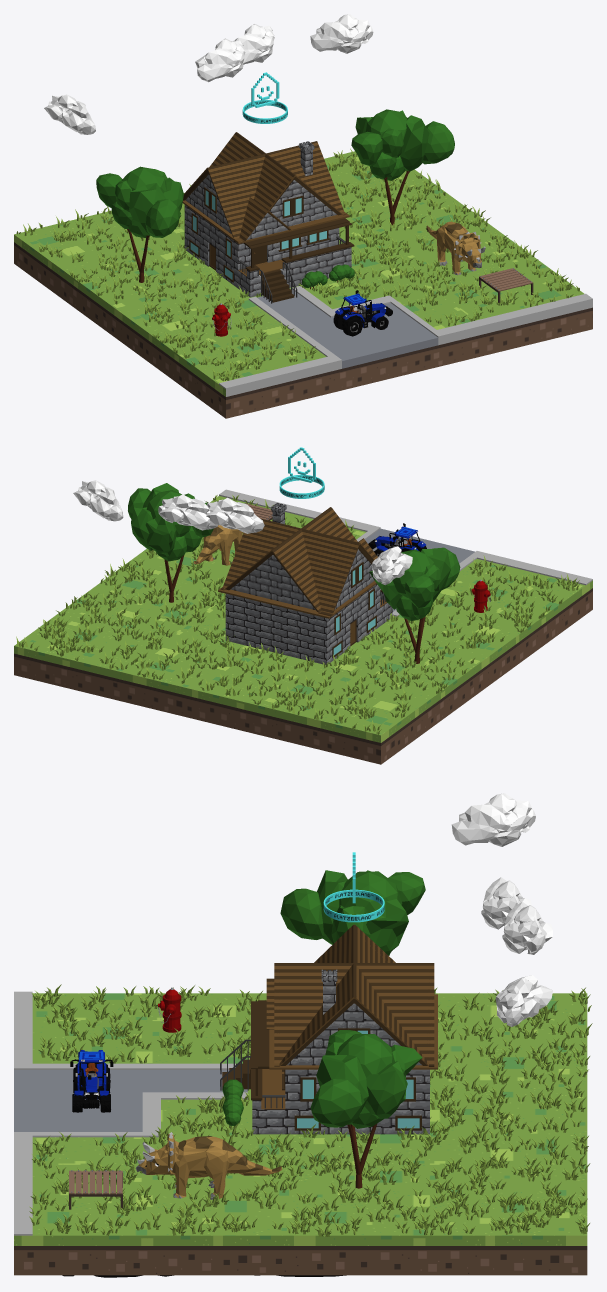
3 views of the same model, one above another, from view 1: azimuth 30°, elevation 25°; view 2: azimuth 150°, elevation 25°; view 3: azimuth 270°, elevation 25° (orthographic). The views are drawn at different scales.
Visible parts, largest first — view 1: Cube.006, Cube.586, Circle.012_Grass_0.192, Cube.007, tree, tree.001, ANIMAL_Triceratops, VEHICLES_TRACTOR, TYPE_PREMIUM, Cube.009; view 2: Cube.006, Cube.586, Circle.012_Grass_0.192, Cube.007, tree.001, tree, ANIMAL_Triceratops, VEHICLES_TRACTOR, TYPE_PREMIUM, OBJRANDOM_FIRE_HYDRANT; view 3: Cube.006, Circle.012_Grass_0.192, Cube.586, tree, Cube.007, tree.001, ANIMAL_Triceratops, VEHICLES_TRACTOR, Cube.009, TYPE_PREMIUM, OBJRANDOM_FIRE_HYDRANT.
Part boxes in pixels (bbox=[...]): Cube.006: bbox=[14, 151, 592, 418]; Cube.586: bbox=[182, 132, 354, 303]; Circle.012_Grass_0.192: bbox=[16, 148, 579, 381]; Cube.007: bbox=[44, 14, 373, 134]; tree: bbox=[351, 109, 454, 225]; tree.001: bbox=[96, 166, 183, 282]; ANIMAL_Triceratops: bbox=[426, 221, 485, 275]; VEHICLES_TRACTOR: bbox=[333, 290, 392, 336]; TYPE_PREMIUM: bbox=[242, 72, 287, 123]; Cube.009: bbox=[479, 268, 533, 302]; Cube.006: bbox=[14, 489, 592, 764]; Cube.586: bbox=[218, 503, 392, 664]; Circle.012_Grass_0.192: bbox=[16, 495, 579, 734]; Cube.007: bbox=[73, 480, 412, 585]; tree.001: bbox=[369, 547, 460, 663]; tree: bbox=[128, 483, 213, 602]; ANIMAL_Triceratops: bbox=[193, 525, 243, 565]; VEHICLES_TRACTOR: bbox=[368, 523, 426, 556]; TYPE_PREMIUM: bbox=[279, 447, 324, 498]; OBJRANDOM_FIRE_HYDRANT: bbox=[471, 579, 490, 612]; Cube.006: bbox=[14, 991, 587, 1275]; Circle.012_Grass_0.192: bbox=[29, 984, 592, 1236]; Cube.586: bbox=[220, 924, 437, 1134]; tree: bbox=[310, 1029, 422, 1188]; Cube.007: bbox=[451, 793, 552, 1026]; tree.001: bbox=[280, 870, 425, 955]; ANIMAL_Triceratops: bbox=[135, 1132, 282, 1199]; VEHICLES_TRACTOR: bbox=[70, 1050, 113, 1112]; Cube.009: bbox=[69, 1170, 122, 1209]; TYPE_PREMIUM: bbox=[323, 852, 384, 922]; OBJRANDOM_FIRE_HYDRANT: bbox=[158, 987, 181, 1032].
Size of the model in its own units: 4071 by 2273 by 4040.
33 materials, 5 textured.
